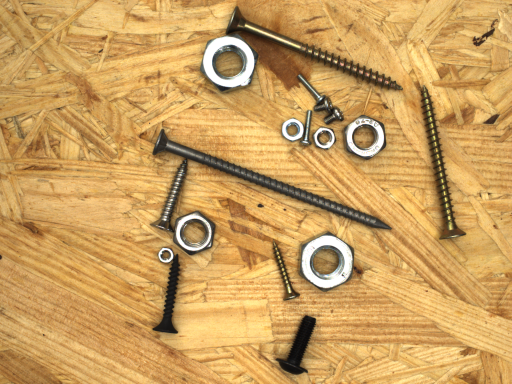screw_long: (139, 116, 411, 255)
